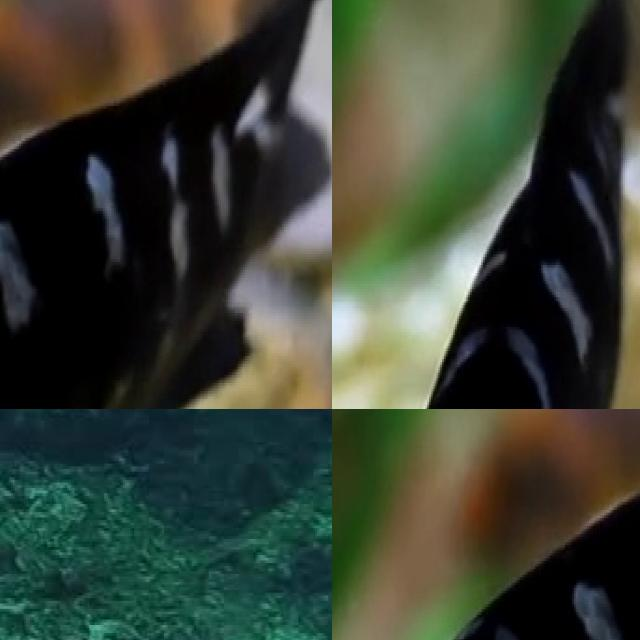fish: (0, 0, 332, 409), (430, 409, 640, 569)
